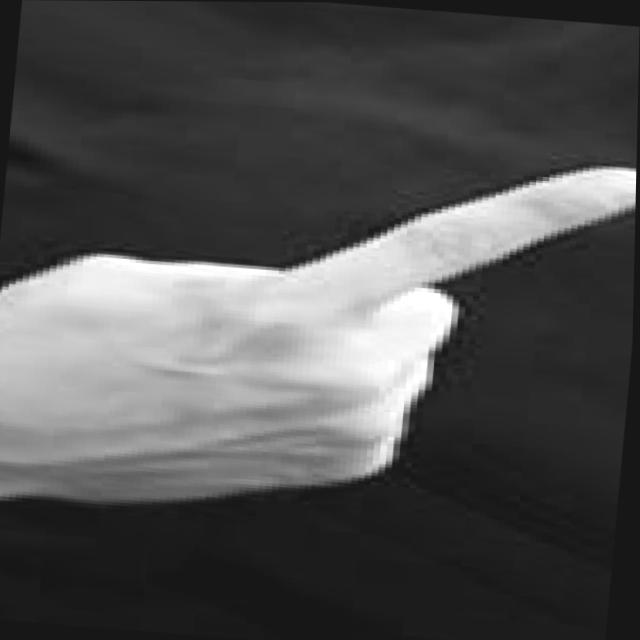I: (0, 113, 637, 549)
